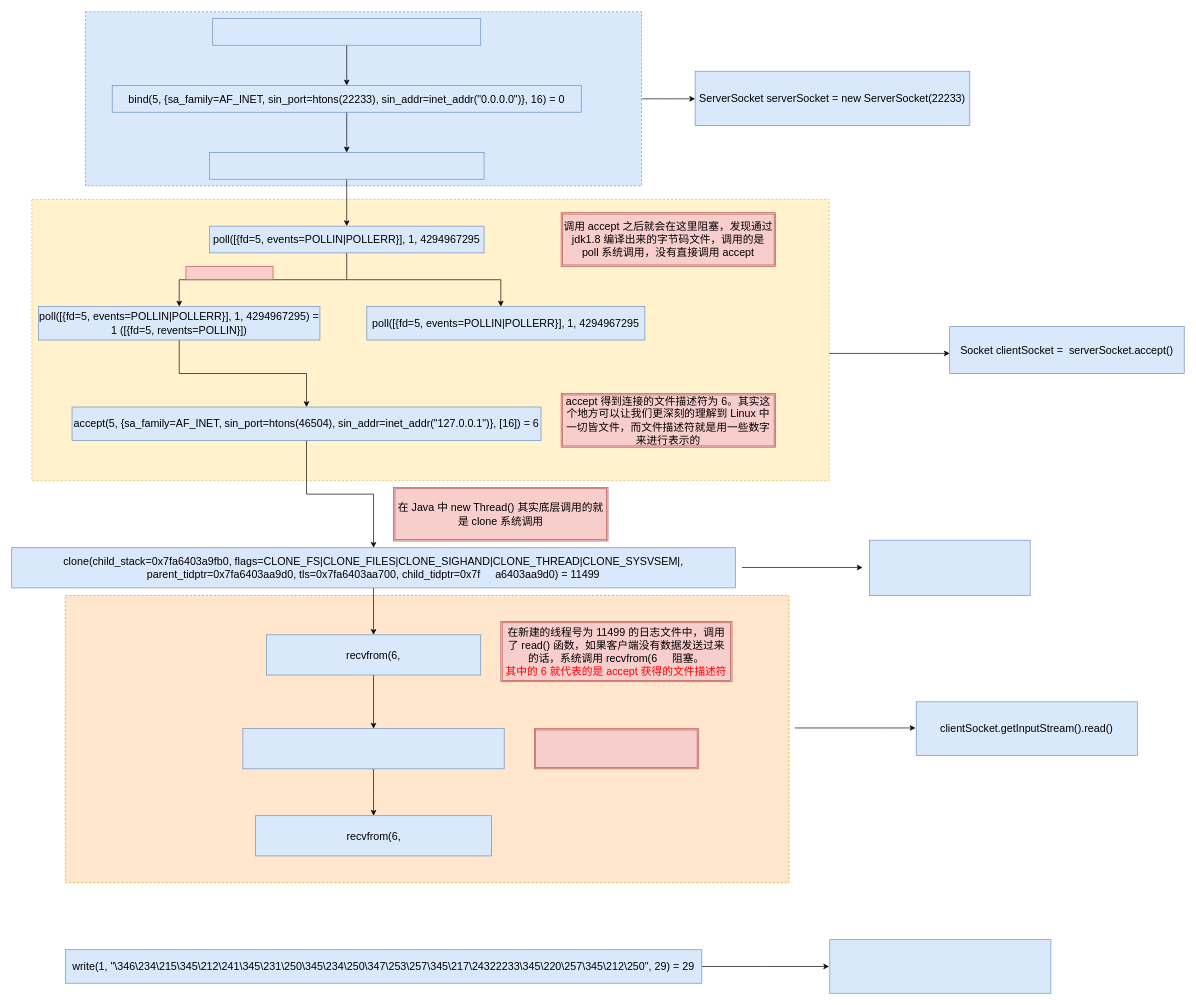
This 1196x1005 diagram has some shape labels left out. The shapes that lost their labels are listed below. From the top down, each one's box as (x1, y1, x2, y2) in pixels, then its label:
(212, 18, 481, 45): socket(PF_INET, SOCK_STREAM, IPPROTO_IP) = 5
(209, 152, 484, 179): listen(5, 50) = 0
(185, 266, 273, 280): 如果有连接进来
(869, 540, 1030, 595): new Thread().start()
(242, 728, 504, 769): recvfrom(6, "hello\n", 4096, 0, NULL, NULL) = 6
(534, 728, 698, 769): 客户端发送数据后
(829, 939, 1051, 993): System.out.println()； 在屏幕中输出内容其实就是向 1 号文件描述符中写入内容，再次体会 Linux 中一切皆文件
